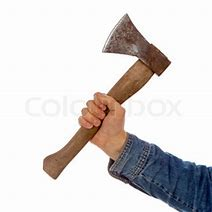axe: (42, 12, 172, 181)
